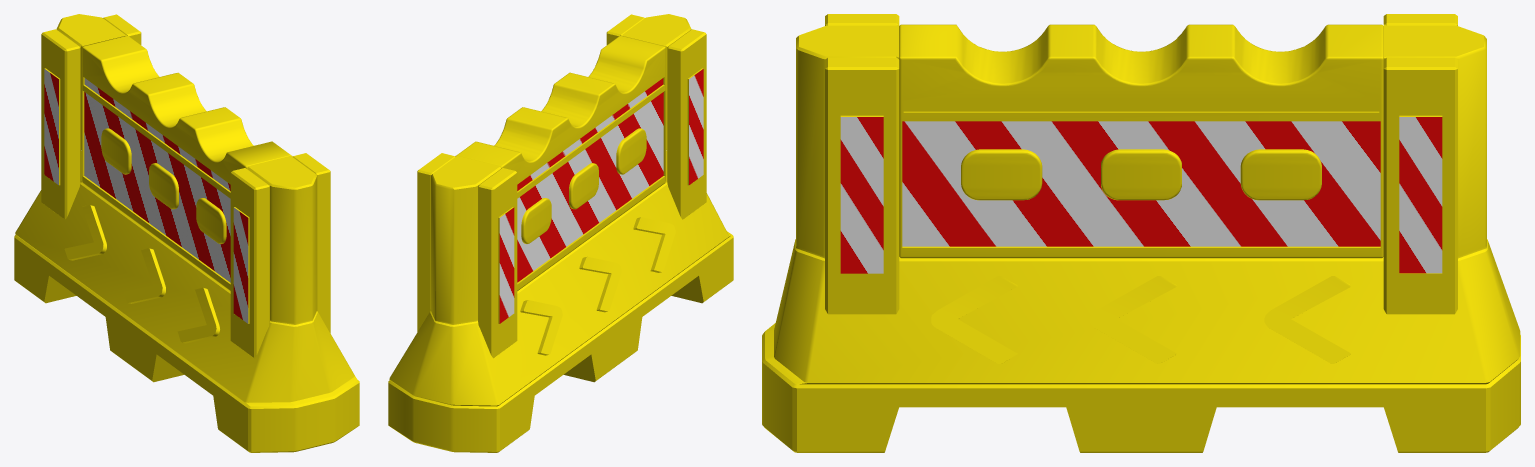
Rendered from water_shuima.glb.
The picture shows the model from 3 angles, left to right: view 1: azimuth 30°, elevation 25°; view 2: azimuth 150°, elevation 25°; view 3: azimuth 270°, elevation 25°; orthographic projection. The views are drawn at different scales.
Parts seen in each view (by area): view 1: Water horse enclosure; view 2: Water horse enclosure; view 3: Water horse enclosure.
Boxes of the visible parts, x1,y1,x2,y2 form: Water horse enclosure: [14, 14, 359, 452]; Water horse enclosure: [388, 14, 733, 452]; Water horse enclosure: [762, 14, 1520, 452].
Bounding box in the file's own units: 0.3503 × 0.7595 × 1.4.
2 materials, 1 textured.
